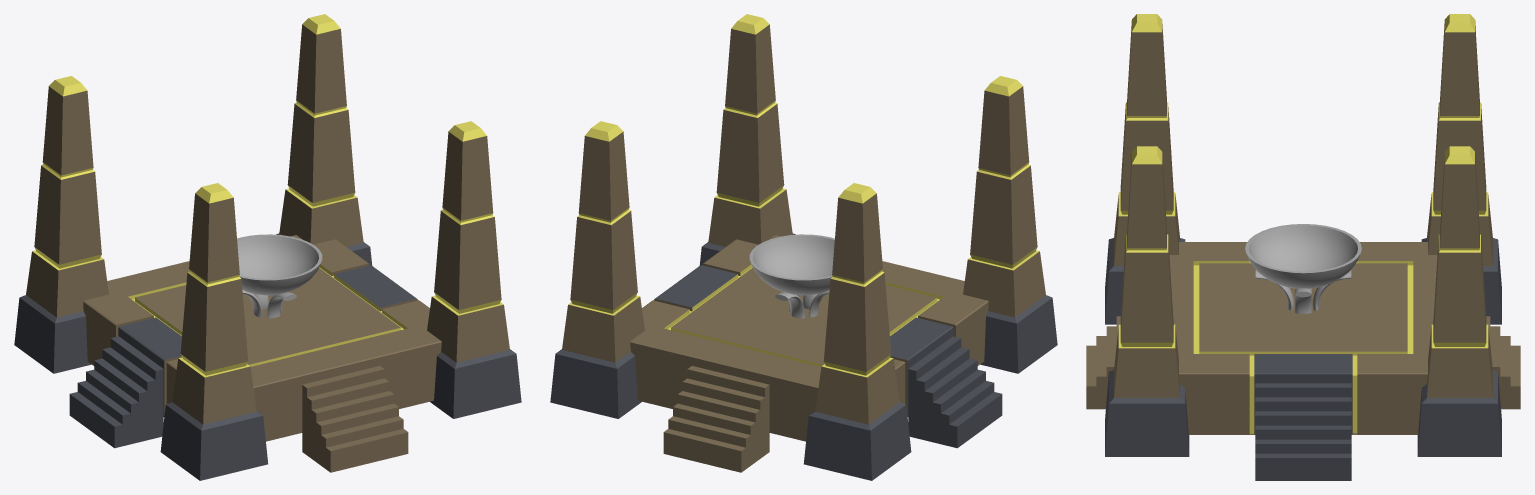
The model's file is Firepit.gltf.
3 renders of one model, left to right at view 1: azimuth 30°, elevation 25°; view 2: azimuth 150°, elevation 25°; view 3: azimuth 270°, elevation 25°, orthographic. The views are drawn at different scales.
Parts seen in each view (by area): view 1: Pillars, Base, Stairs, FireBowl, FireBowlHolder; view 2: Pillars, Base, Stairs, FireBowl, FireBowlHolder; view 3: Pillars, Base, Stairs, FireBowl, FireBowlHolder.
Part boxes in pixels (box(x1,y1,x2,y2)): Pillars: box(14, 14, 521, 480); Base: box(83, 235, 441, 441); Stairs: box(69, 300, 418, 472); FireBowl: box(237, 234, 322, 295); FireBowlHolder: box(242, 290, 296, 318); Pillars: box(550, 14, 1057, 480); Base: box(630, 235, 988, 441); Stairs: box(653, 300, 1002, 472); FireBowl: box(749, 234, 834, 295); FireBowlHolder: box(775, 290, 829, 318); Pillars: box(1105, 14, 1501, 456); Base: box(1169, 242, 1437, 434); Stairs: box(1086, 316, 1520, 480); FireBowl: box(1245, 224, 1361, 288); FireBowlHolder: box(1255, 270, 1351, 313).
Size of the model in its own units: 5.55 by 4.3 by 5.55.
